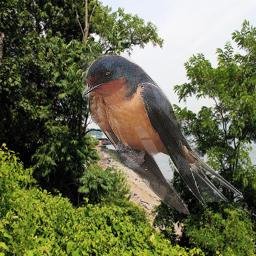Swallow: (82, 53, 242, 215)
